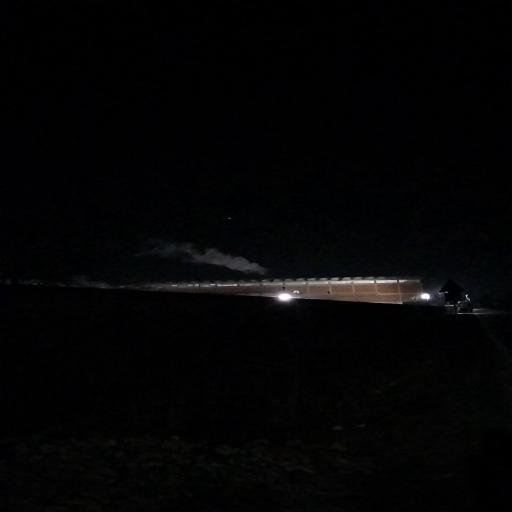leakage: (138, 228, 280, 278)
